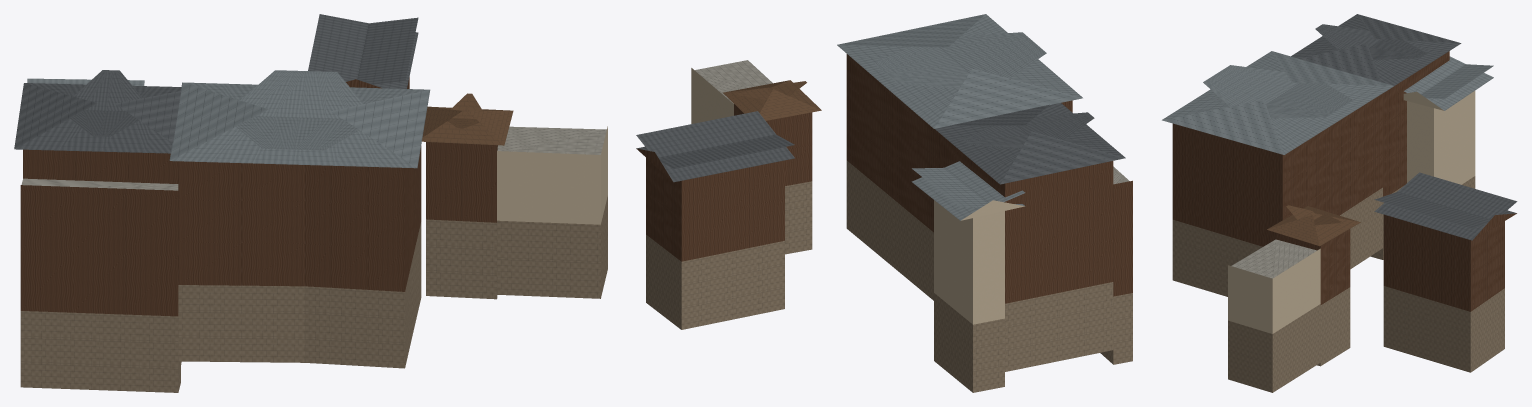
Rendered from bld_c40_-49_461.gltf.
3 renders of one model, left to right at view 1: azimuth 30°, elevation 25°; view 2: azimuth 150°, elevation 25°; view 3: azimuth 270°, elevation 25°, orthographic. The views are drawn at different scales.
Visible parts, largest first — view 1: bld_c40_-49_461; view 2: bld_c40_-49_461; view 3: bld_c40_-49_461.
Part boxes in pixels (x1,y1,x2,y2): bld_c40_-49_461: (14, 14, 607, 392); bld_c40_-49_461: (636, 14, 1132, 392); bld_c40_-49_461: (1162, 14, 1517, 392).
Bounding box in the file's own units: 37.73 × 16.7 × 27.06.
9 materials, 9 textured.
